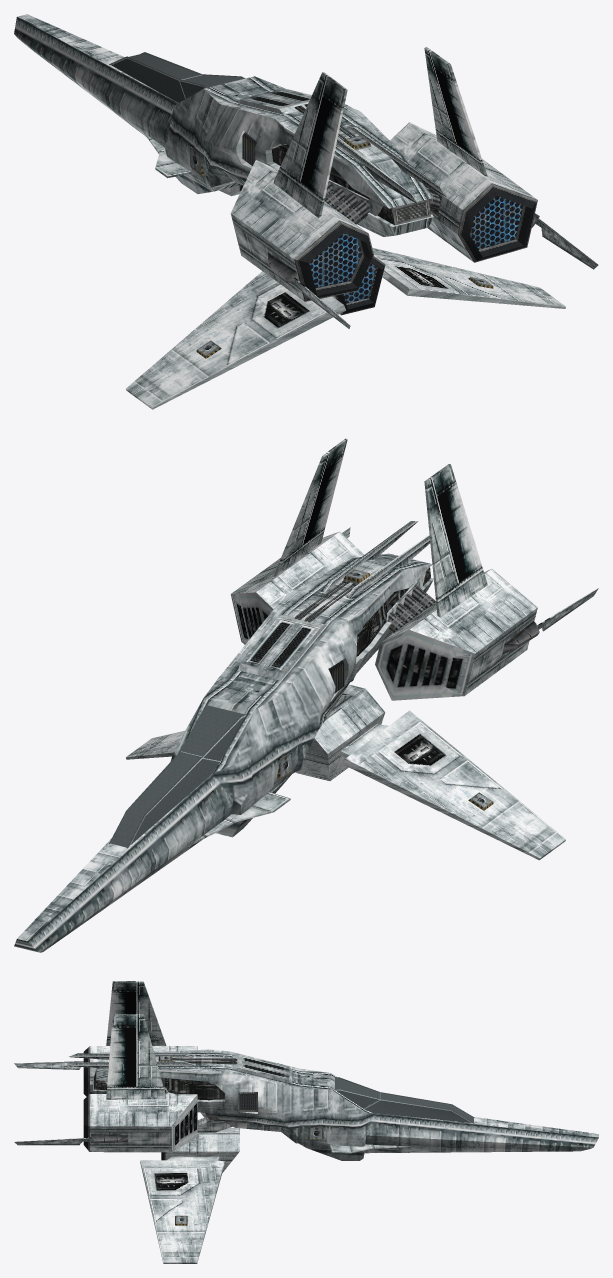
File: DA-84 Scimitar Mk I.fbx
The picture shows the model from 3 angles, top to bottom: view 1: azimuth 30°, elevation 25°; view 2: azimuth 150°, elevation 25°; view 3: azimuth 270°, elevation 25°; orthographic projection. The views are drawn at different scales.
Visible parts, largest first — view 1: Scimitar_hull1, Scimitar_hull2, Scimitar_equip, Scimitar_grill, Scimitar_glass, Scimitar_hardpoints; view 2: Scimitar_hull1, Scimitar_hull2, Scimitar_glass, Scimitar_equip, Scimitar_hardpoints; view 3: Scimitar_hull1, Scimitar_hull2, Scimitar_equip, Scimitar_glass, Scimitar_hardpoints.
Boxes of the visible parts, <box> form: Scimitar_hull1: <box>14,14,598,409</box>; Scimitar_hull2: <box>109,47,487,218</box>; Scimitar_equip: <box>242,104,539,315</box>; Scimitar_grill: <box>309,196,522,303</box>; Scimitar_glass: <box>112,53,243,102</box>; Scimitar_hardpoints: <box>190,135,493,358</box>; Scimitar_hull1: <box>14,521,598,952</box>; Scimitar_hull2: <box>109,438,487,848</box>; Scimitar_glass: <box>110,705,244,847</box>; Scimitar_equip: <box>294,567,539,693</box>; Scimitar_hardpoints: <box>276,569,493,810</box>; Scimitar_hull1: <box>14,1046,598,1263</box>; Scimitar_hull2: <box>106,981,474,1153</box>; Scimitar_equip: <box>83,1046,257,1160</box>; Scimitar_glass: <box>335,1077,473,1122</box>; Scimitar_hardpoints: <box>158,1055,323,1225</box>.
Bounding box in the file's own units: 214 × 153 × 404.
Materials: 6 (6 with a texture image).
